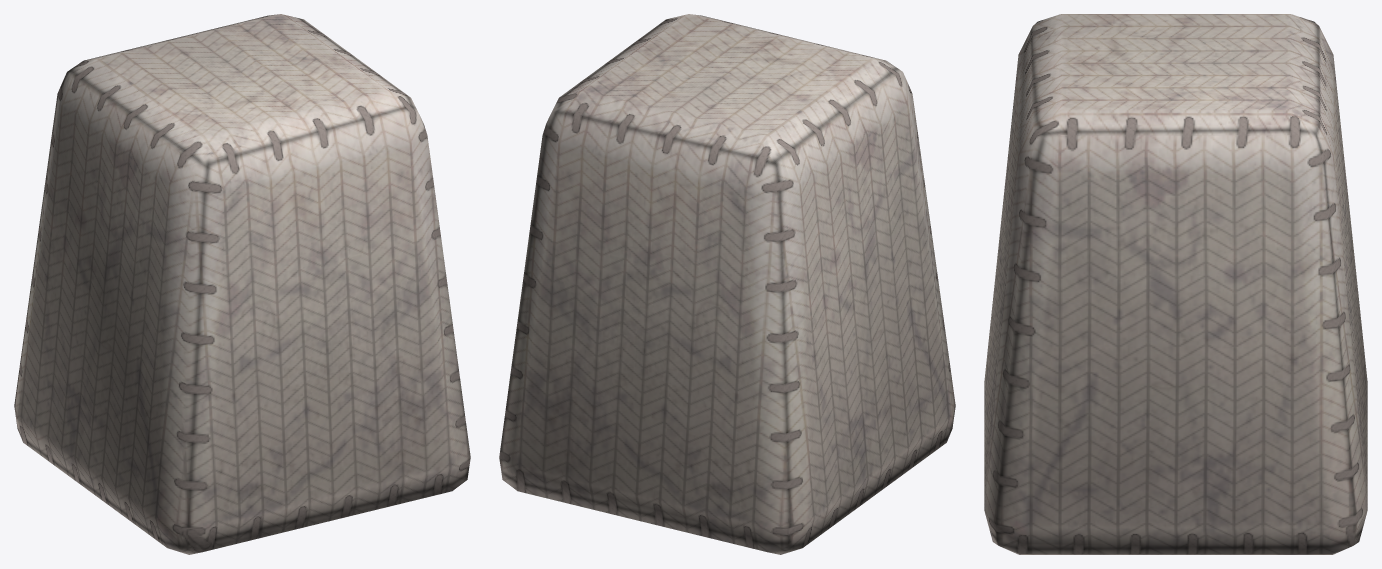
Rendered from lpb_cs_Rock1.fbx.
The picture shows the model from 3 angles, left to right: view 1: azimuth 30°, elevation 25°; view 2: azimuth 150°, elevation 25°; view 3: azimuth 270°, elevation 25°; orthographic projection. The views are drawn at different scales.
Parts seen in each view (by area): view 1: lpb_cs_Rock1; view 2: lpb_cs_Rock1; view 3: lpb_cs_Rock1.
Part boxes in pixels (left/top/right/bottom): lpb_cs_Rock1: left=14, top=14, right=470, bottom=554; lpb_cs_Rock1: left=499, top=14, right=955, bottom=554; lpb_cs_Rock1: left=984, top=14, right=1367, bottom=554.
Size of the model in its own units: 49.11 by 60.32 by 49.11.
